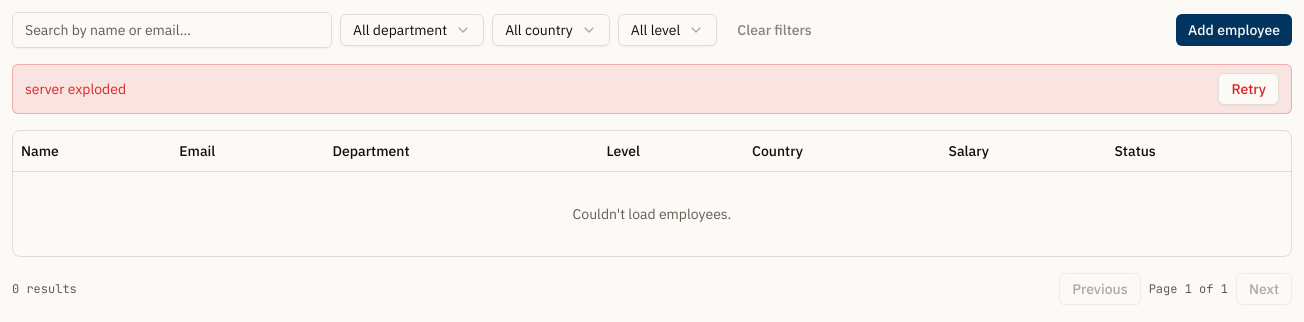
Test: EmployeeTable › shows a retry button on a failed first load, and recovers on retry
Check: the text "server exploded" is shown, box [25, 79, 126, 99]
Click the button "Retry" at (1249, 89), box [1218, 73, 1279, 105]
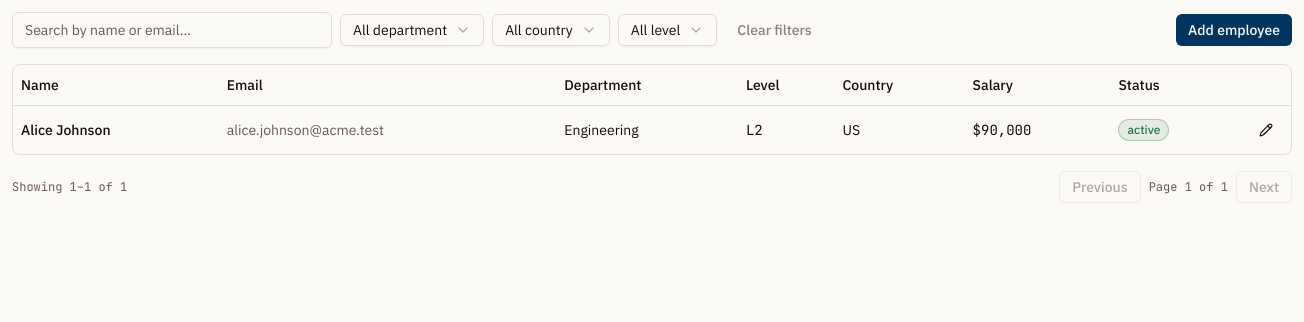
Check: the button "Alice Johnson" is shown, box [21, 120, 110, 140]
Check: the text "server exploded" is gone
